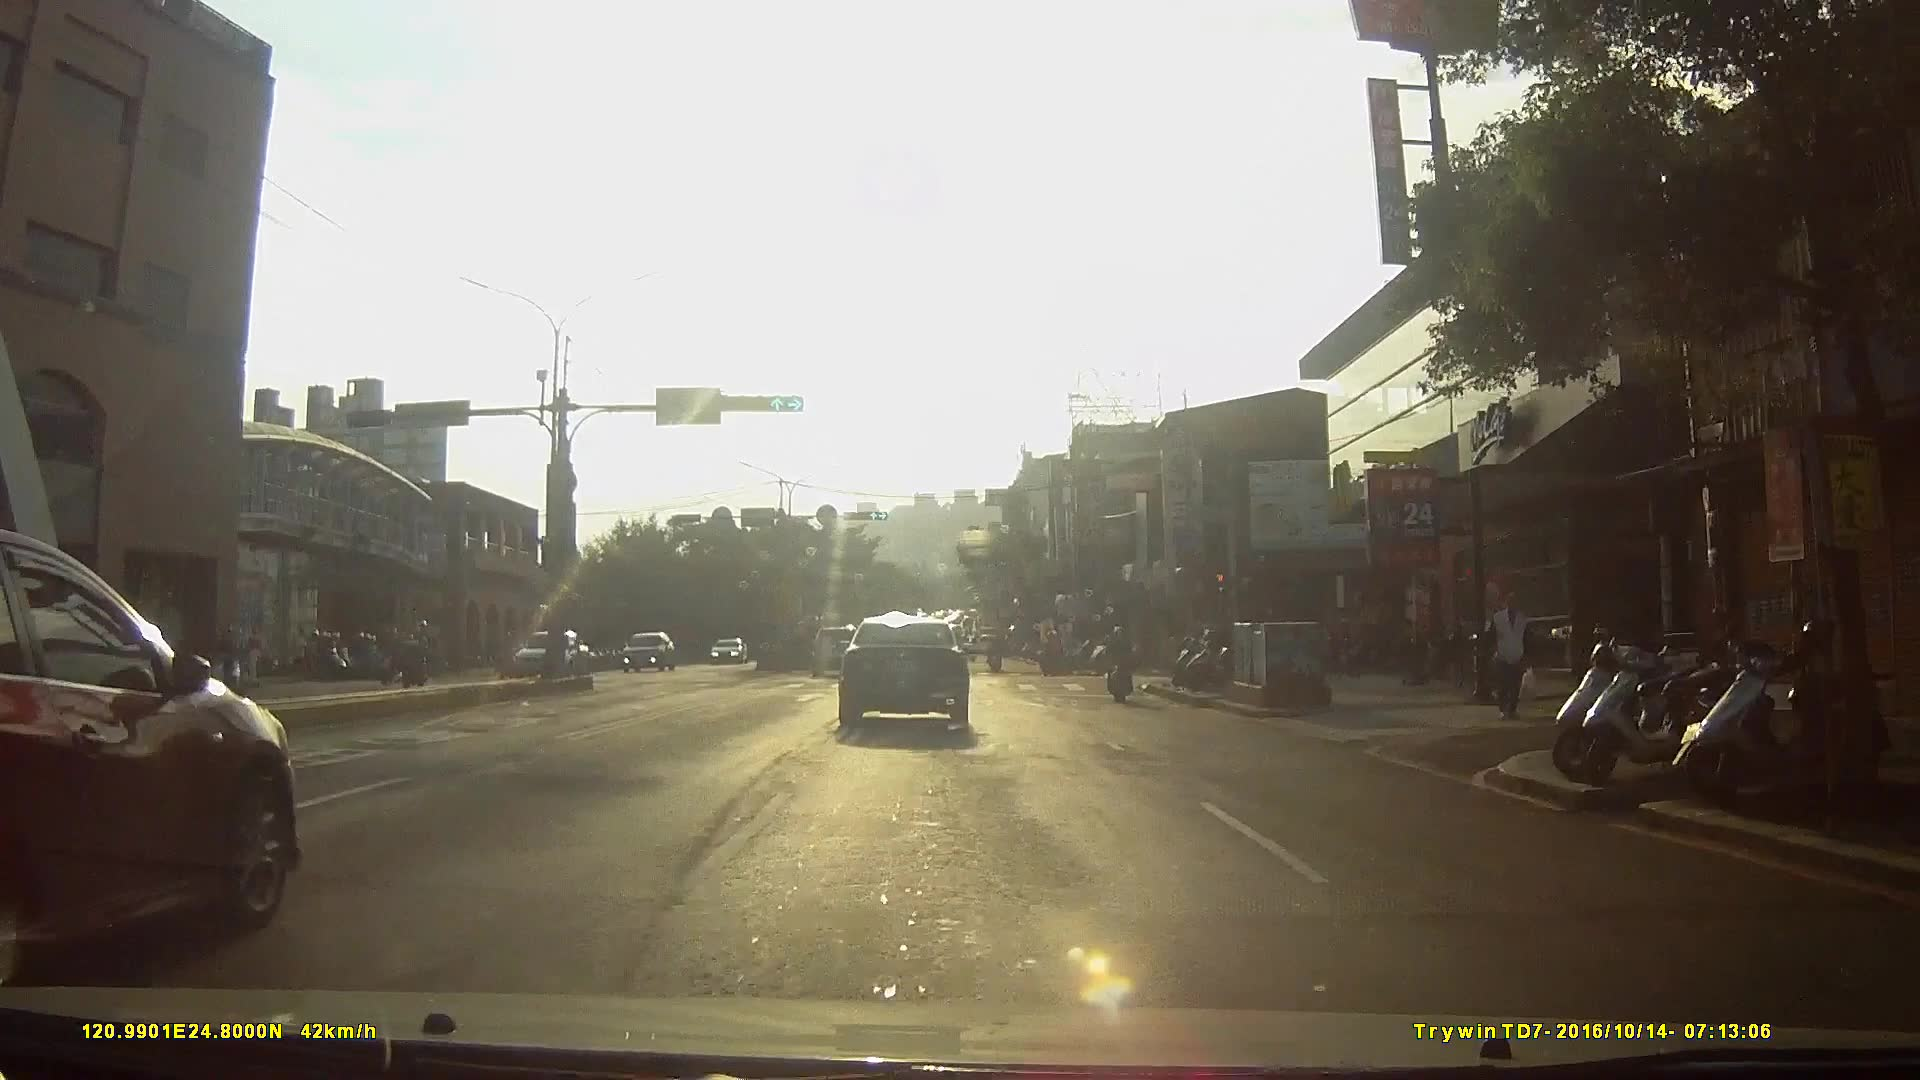pedestrian: (1478, 594, 1530, 728)
rider: (187, 626, 240, 699), (389, 619, 439, 694), (1104, 619, 1137, 701), (348, 632, 392, 683), (1038, 629, 1067, 677), (986, 635, 1006, 676)
vehicle: (1, 531, 307, 988), (835, 609, 986, 735), (502, 624, 593, 681), (809, 621, 868, 676), (621, 633, 678, 676), (706, 637, 751, 669)
